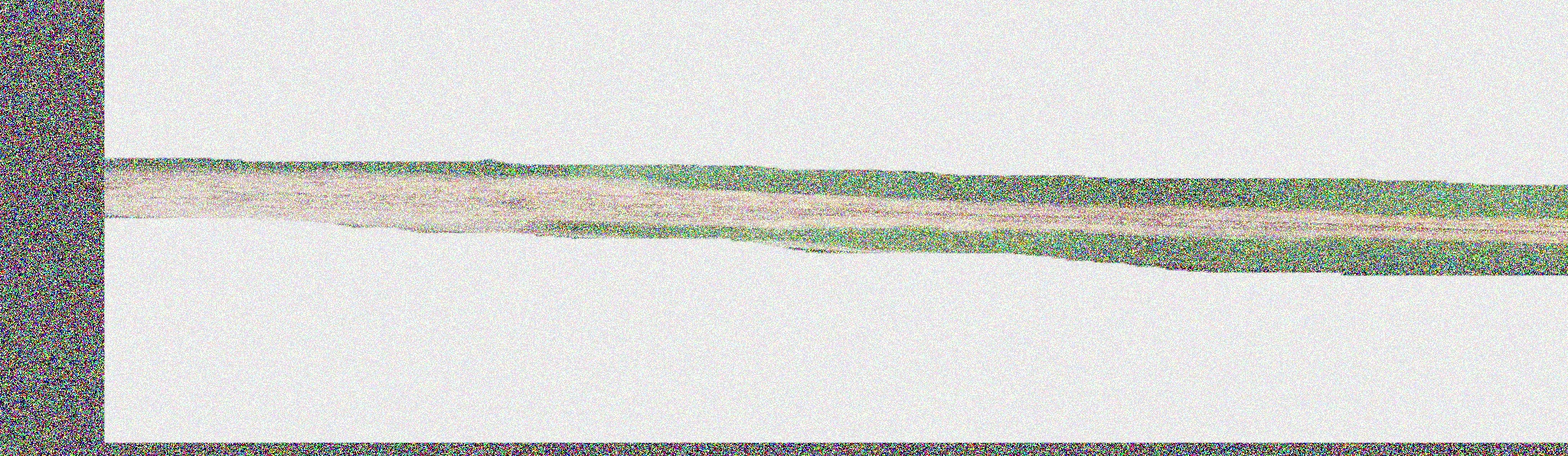Leaf_Blast: (109, 173, 1568, 254)
